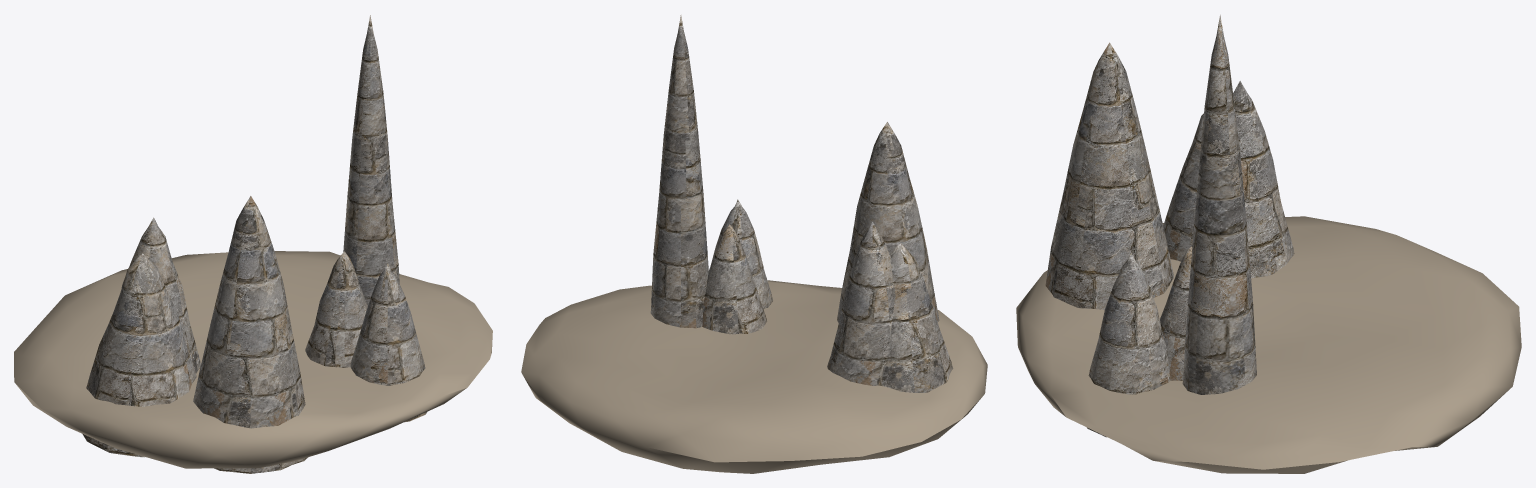
Rendered from stalagmites-v01.glb.
The picture shows the model from 3 angles, left to right: view 1: azimuth 30°, elevation 25°; view 2: azimuth 150°, elevation 25°; view 3: azimuth 270°, elevation 25°; orthographic projection. The views are drawn at different scales.
Parts seen in each view (by area): view 1: stalagmites; view 2: stalagmites; view 3: stalagmites.
Boxes of the visible parts, box(x1,y1,x2,y2) form: stalagmites: box(14, 15, 492, 473); stalagmites: box(521, 15, 987, 473); stalagmites: box(1016, 14, 1521, 473).
Size of the model in its own units: 2.2 by 1.75 by 1.92.
1 material, 1 textured.
